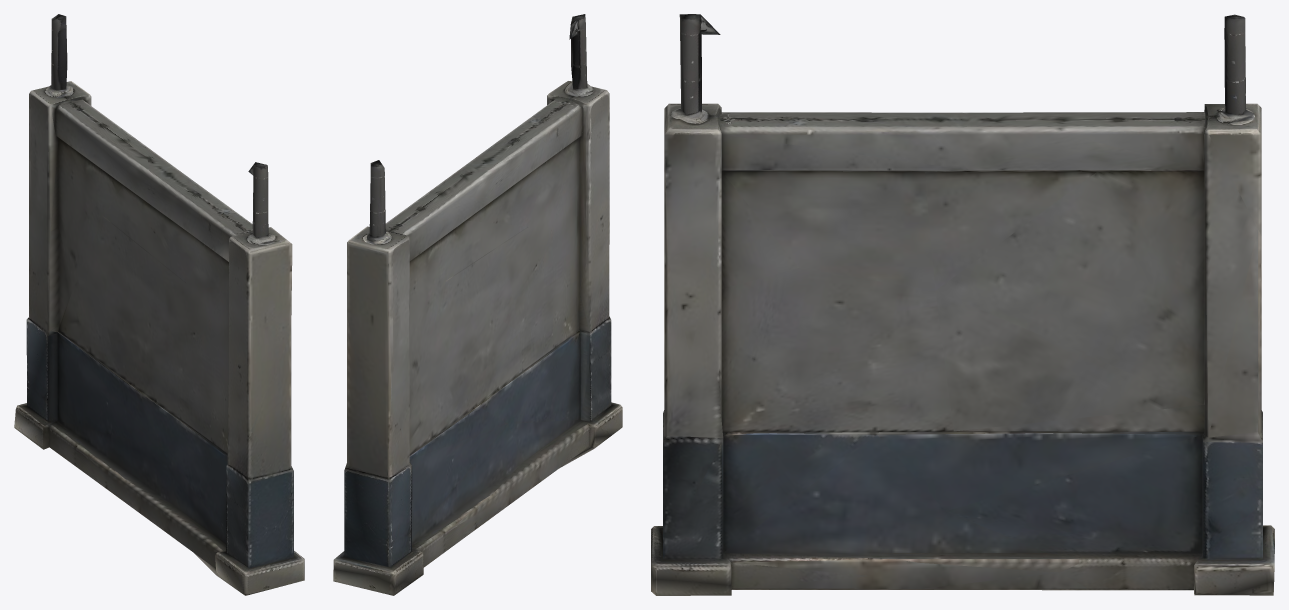
The model's file is tripo_convert_7a3c3698-5770-4b10-a003-6badc2133dae.fbx.
3 views of the same model, side by side, from view 1: azimuth 30°, elevation 25°; view 2: azimuth 150°, elevation 25°; view 3: azimuth 270°, elevation 25° (orthographic). The views are drawn at different scales.
Parts seen in each view (by area): view 1: tripo_node_7a3c3698; view 2: tripo_node_7a3c3698; view 3: tripo_node_7a3c3698.
Part boxes in pixels (left/top/right/bottom): tripo_node_7a3c3698: left=14, top=14, right=304, bottom=595; tripo_node_7a3c3698: left=333, top=14, right=622, bottom=595; tripo_node_7a3c3698: left=651, top=14, right=1274, bottom=595.
Size of the model in its own units: 0.1565 by 0.9915 by 0.9998.
Materials: 1 (1 with a texture image).
